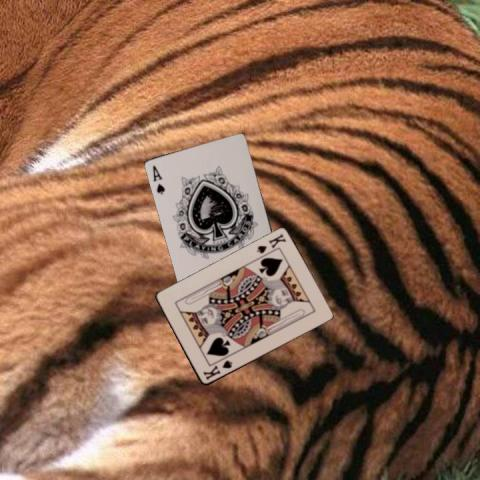As: (150, 163, 167, 196)
Ks: (254, 232, 288, 256), (200, 358, 233, 382)
